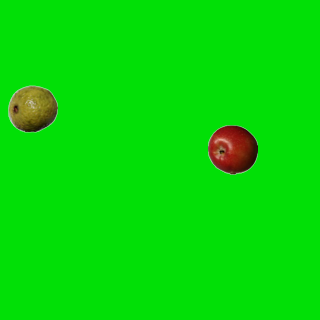Apple Braeburn: (207, 124, 257, 174)
Guava: (7, 83, 57, 133)
